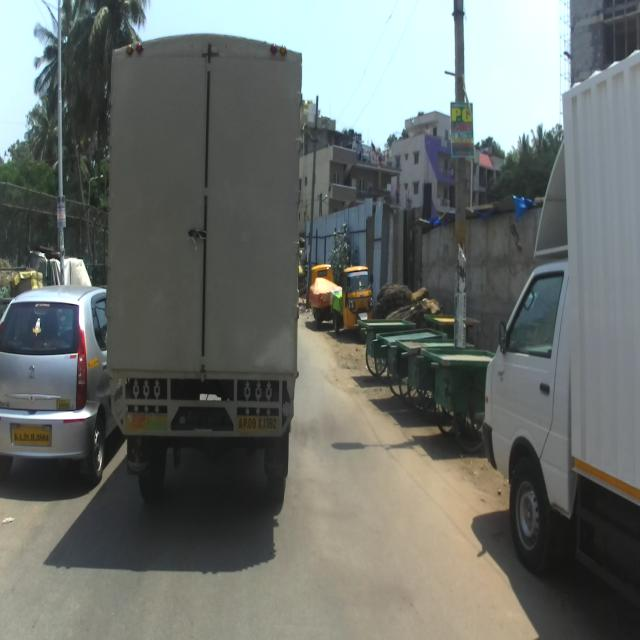auto ahead at: (334, 256, 368, 336)
car ahead at: (2, 281, 110, 497)
truck ahead at: (112, 32, 303, 519)
